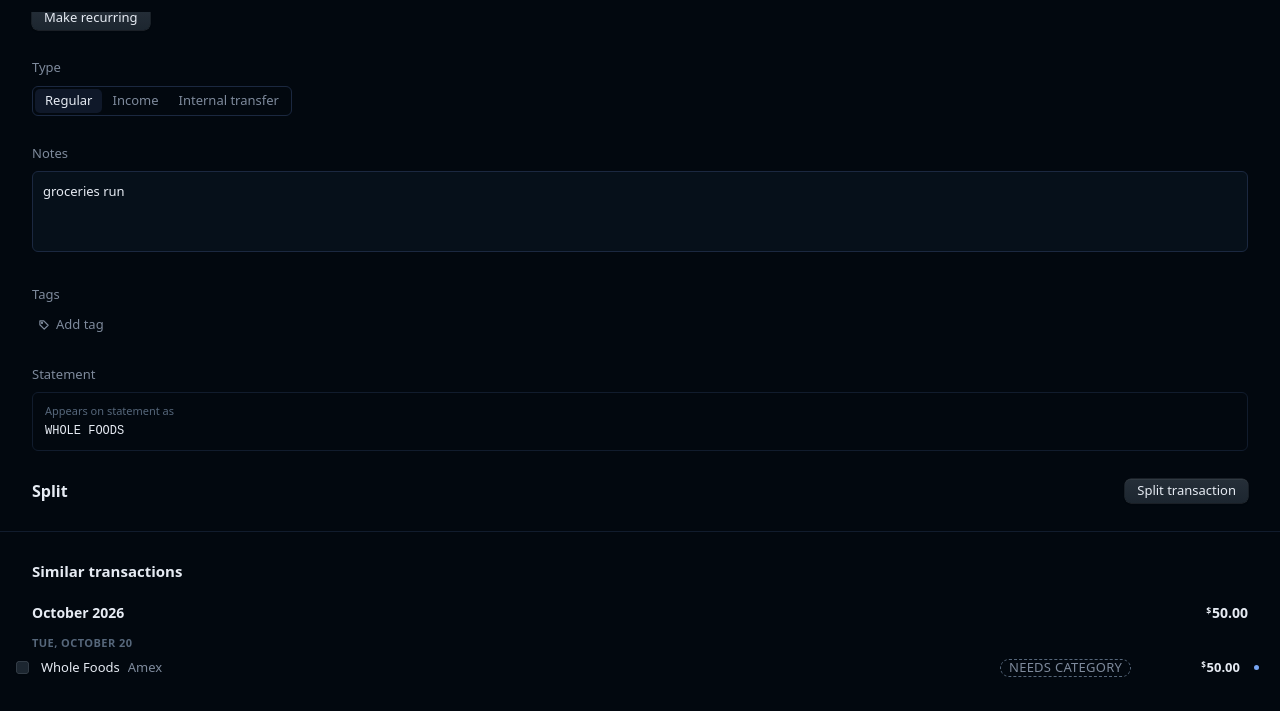
Test: DetailPane › splits a transaction into parts that must balance, then lists them
(page scrolled)
Click the button "Split transaction" at (1187, 490), box x1=1125 y1=478 x2=1248 y2=502
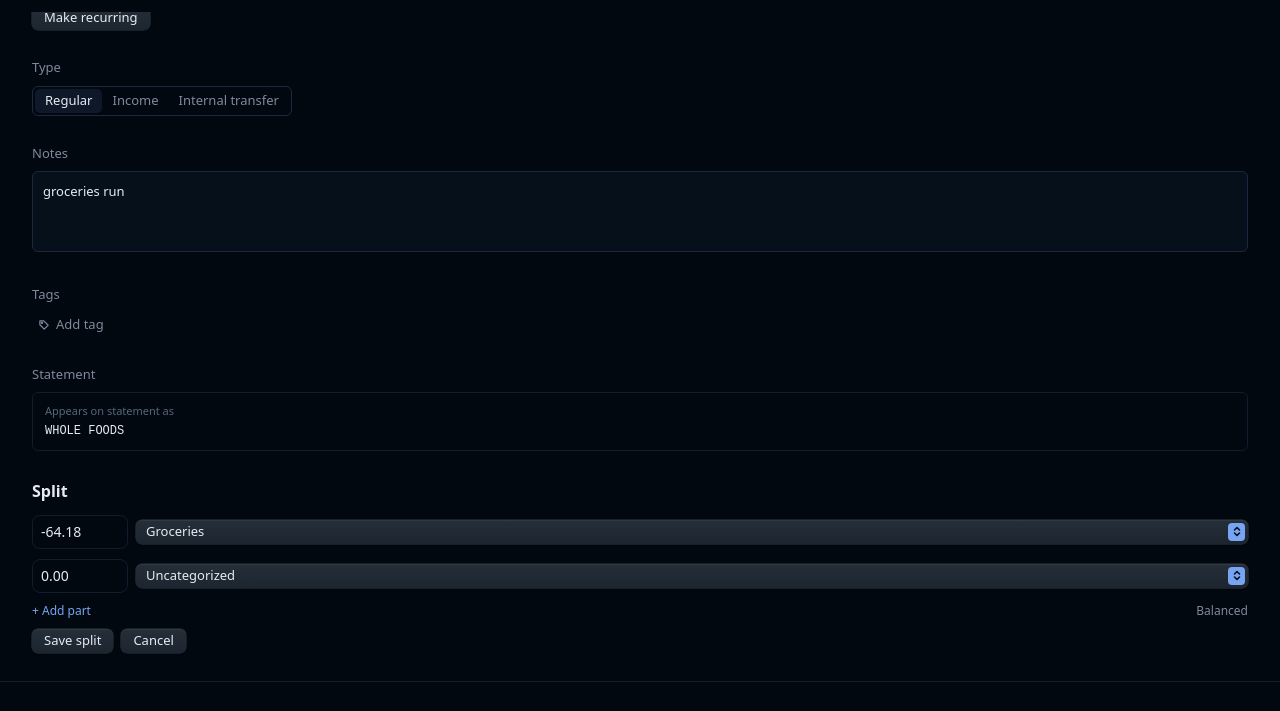
Check: the button "Save split" is enabled, box x1=32 y1=628 x2=113 y2=652
unbalance it, Save disables
Replace the text in the field named "Part 2 amount" with "-10.00" at (80, 576), box x1=32 y1=558 x2=128 y2=592
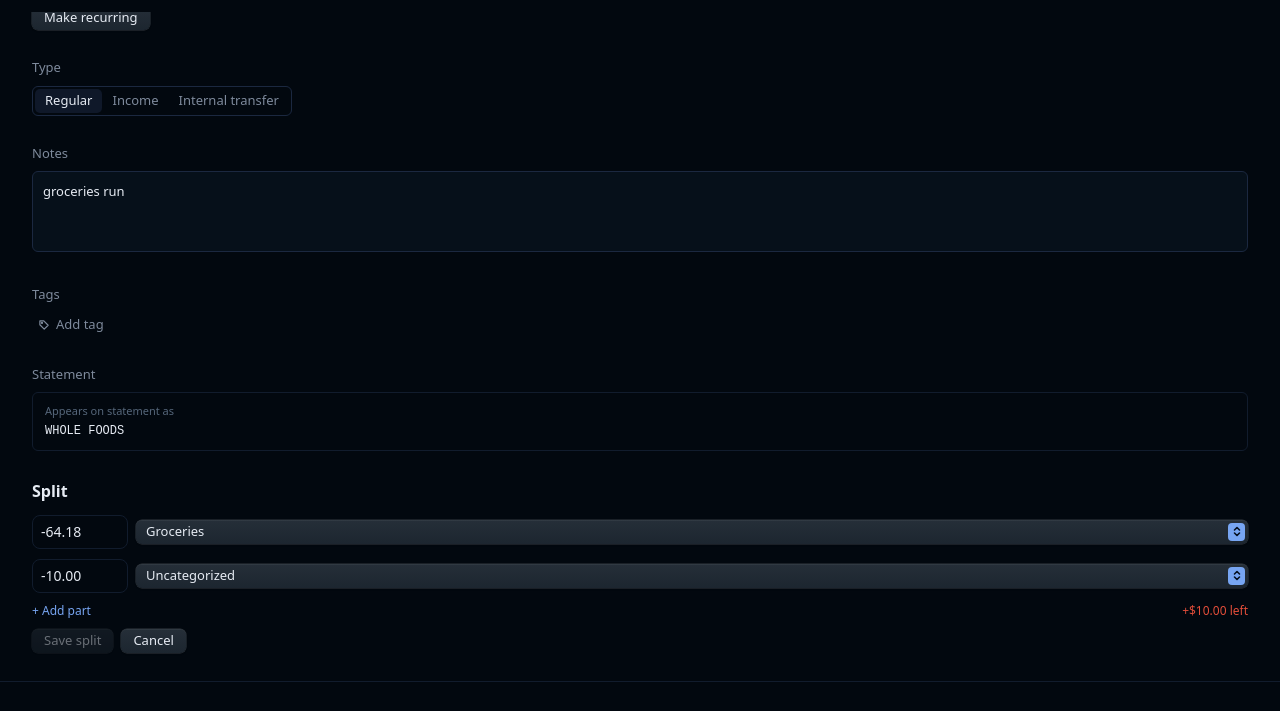
Check: the button "Save split" is disabled, box x1=32 y1=628 x2=113 y2=652
Check: the text "+$10.00 left" is shown, box x1=1182 y1=602 x2=1248 y2=618
rebalance part 1 to -54.18
Replace the text in the field named "Part 1 amount" with "-54.18" at (80, 532), box x1=32 y1=514 x2=128 y2=548
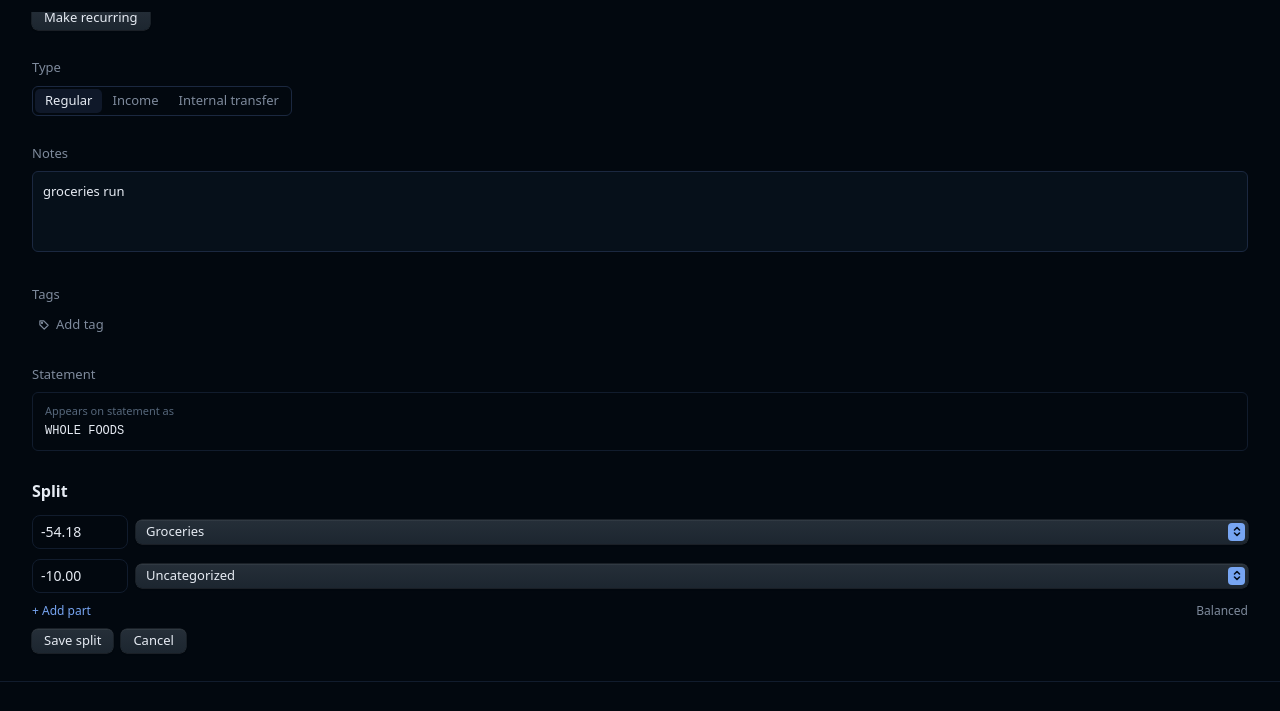
Click the button "Save split" at (73, 640), box x1=32 y1=628 x2=113 y2=652
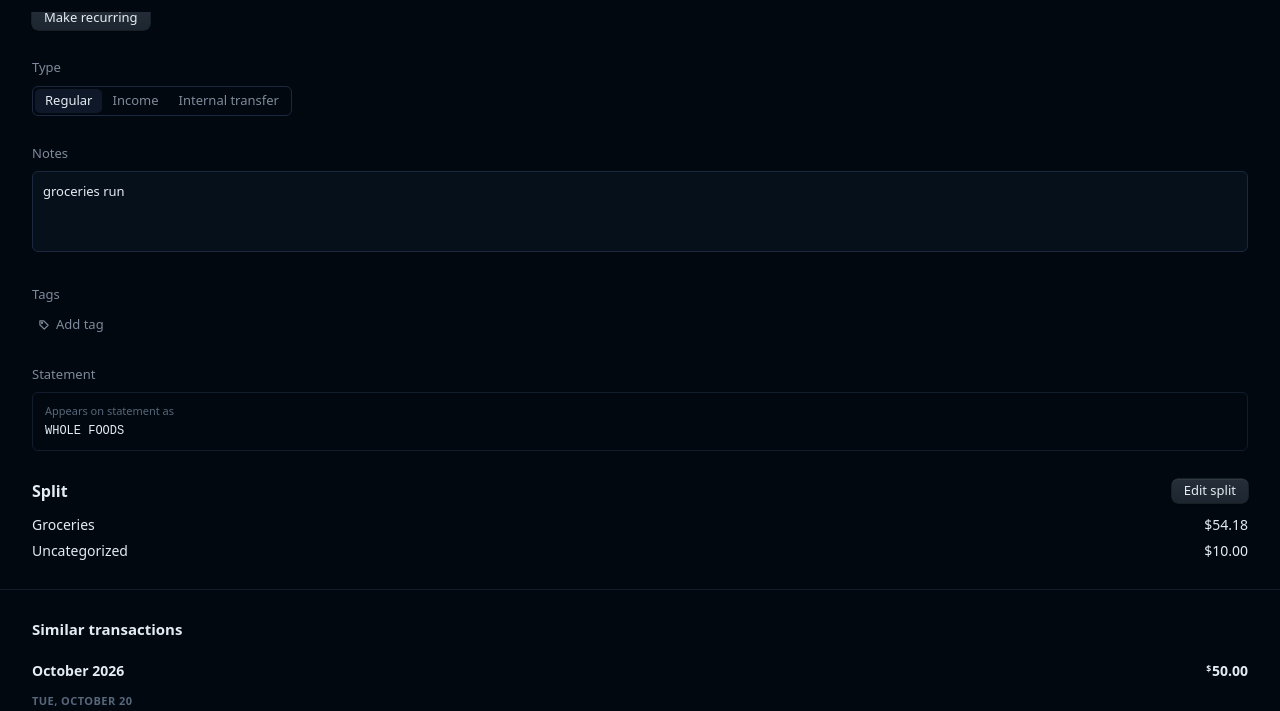
Check: the button "Edit split" is shown, box x1=1172 y1=478 x2=1248 y2=502
Check: the element labelled "Split" shows "$54.18", box x1=1204 y1=514 x2=1248 y2=534
Check: the element labelled "Split" shows "$10.00", box x1=1204 y1=540 x2=1248 y2=560
